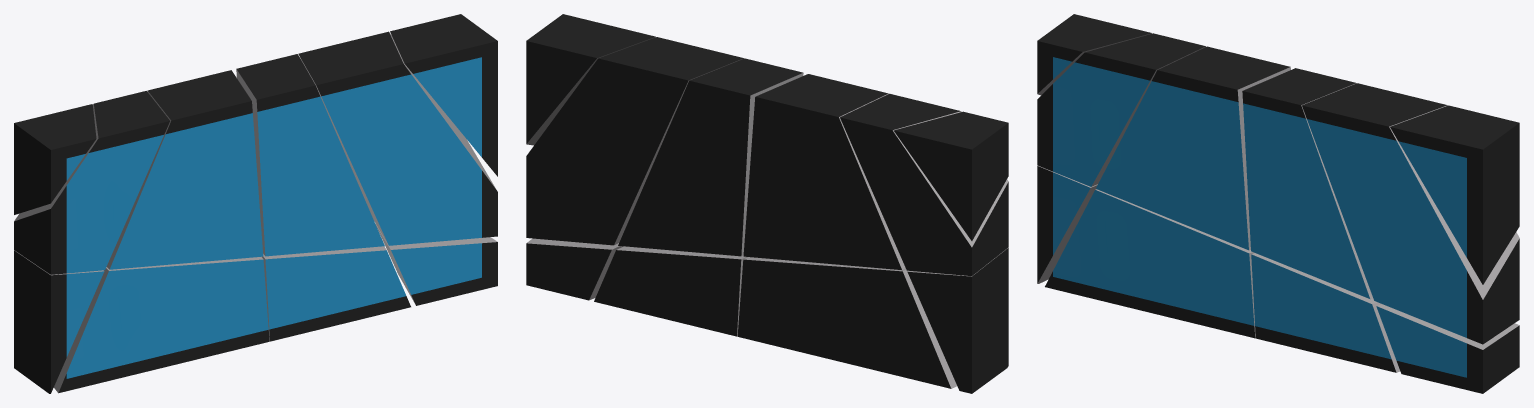
Rendered from TV_DEST.fbx.
3 views of the same model, side by side, from view 1: azimuth 30°, elevation 25°; view 2: azimuth 150°, elevation 25°; view 3: azimuth 330°, elevation 25° (orthographic).
Visible parts, largest first — view 1: model:mesh1579317768.006, model:mesh1579317768.009, model:mesh1579317768.004, model:mesh1579317768.008, model:mesh1579317768.005, model:mesh1579317768.007, model:mesh1579317768.003, model:mesh1579317768.001, model:mesh1579317768, model:mesh1579317768.002; view 2: model:mesh1579317768.006, model:mesh1579317768.009, model:mesh1579317768.004, model:mesh1579317768.008, model:mesh1579317768.005, model:mesh1579317768.007, model:mesh1579317768.001, model:mesh1579317768, model:mesh1579317768.003, model:mesh1579317768.002; view 3: model:mesh1579317768.006, model:mesh1579317768.009, model:mesh1579317768.004, model:mesh1579317768.008, model:mesh1579317768.003, model:mesh1579317768.005, model:mesh1579317768.007, model:mesh1579317768.002, model:mesh1579317768.001, model:mesh1579317768.
Part boxes in pixels (<box>): model:mesh1579317768.006: <box>298,31,497,245</box>; model:mesh1579317768.009: <box>106,70,263,269</box>; model:mesh1579317768.004: <box>54,256,269,393</box>; model:mesh1579317768.008: <box>236,54,384,256</box>; model:mesh1579317768.005: <box>14,91,169,274</box>; model:mesh1579317768.007: <box>262,246,410,341</box>; model:mesh1579317768.003: <box>390,14,497,176</box>; model:mesh1579317768.001: <box>14,250,104,393</box>; model:mesh1579317768: <box>14,104,96,214</box>; model:mesh1579317768.002: <box>375,223,497,305</box>; model:mesh1579317768.006: <box>526,37,743,245</box>; model:mesh1579317768.009: <box>743,74,905,269</box>; model:mesh1579317768.004: <box>737,257,956,388</box>; model:mesh1579317768.008: <box>618,58,803,256</box>; model:mesh1579317768.005: <box>840,93,1008,275</box>; model:mesh1579317768.007: <box>594,246,747,336</box>; model:mesh1579317768.001: <box>907,247,1008,393</box>; model:mesh1579317768: <box>893,111,1008,240</box>; model:mesh1579317768.003: <box>526,14,655,145</box>; model:mesh1579317768.002: <box>526,238,623,300</box>; model:mesh1579317768.006: <box>1302,83,1519,344</box>; model:mesh1579317768.009: <box>1096,46,1290,250</box>; model:mesh1579317768.004: <box>1045,189,1255,338</box>; model:mesh1579317768.008: <box>1242,68,1373,299</box>; model:mesh1579317768.003: <box>1390,105,1519,284</box>; model:mesh1579317768.005: <box>1037,33,1205,186</box>; model:mesh1579317768.007: <box>1251,253,1399,372</box>; model:mesh1579317768.002: <box>1376,304,1519,393</box>; model:mesh1579317768.001: <box>1037,165,1097,283</box>; model:mesh1579317768: <box>1037,14,1151,95</box>.
Size of the model in its own units: 5.33 by 2.79 by 0.7619.
